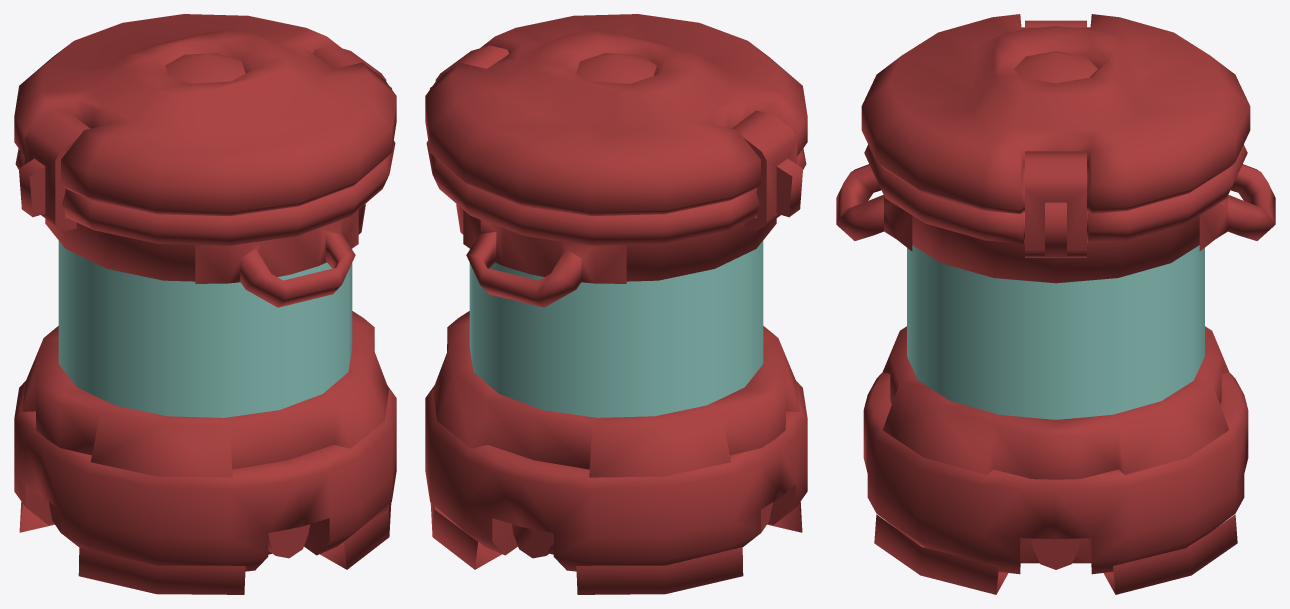
File: Barrel_Scifi_A.fbx
3 renders of one model, left to right at view 1: azimuth 30°, elevation 25°; view 2: azimuth 150°, elevation 25°; view 3: azimuth 270°, elevation 25°, orthographic.
Parts seen in each view (by area): view 1: Geometry_Barrel_Scifi_A_LOD02; view 2: Geometry_Barrel_Scifi_A_LOD02; view 3: Geometry_Barrel_Scifi_A_LOD02.
Boxes of the visible parts, x1,y1,x2,y2 form: Geometry_Barrel_Scifi_A_LOD02: (14,14,396,594); Geometry_Barrel_Scifi_A_LOD02: (425,14,807,594); Geometry_Barrel_Scifi_A_LOD02: (836,14,1275,594).
Size of the model in its own units: 129 by 135 by 157.
